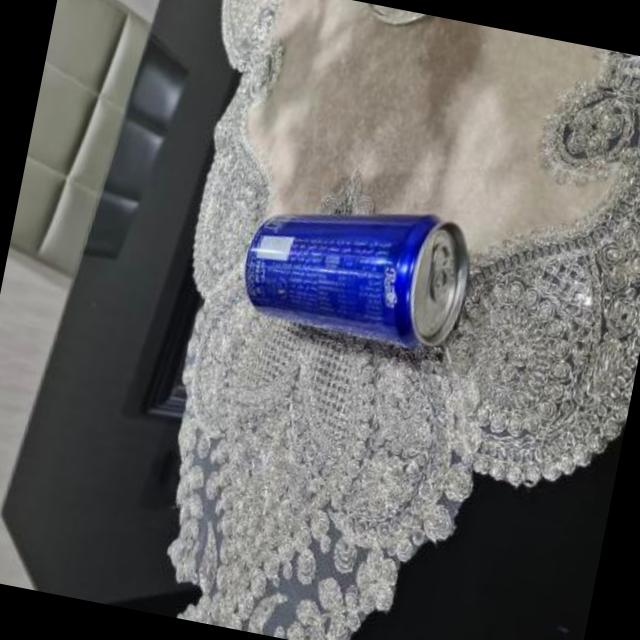metal: (242, 217, 464, 348)
